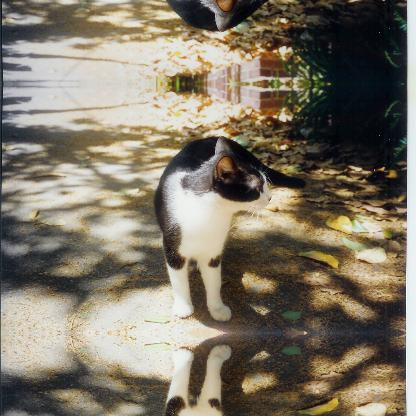Cat: (151, 131, 309, 323), (151, 341, 310, 415)
